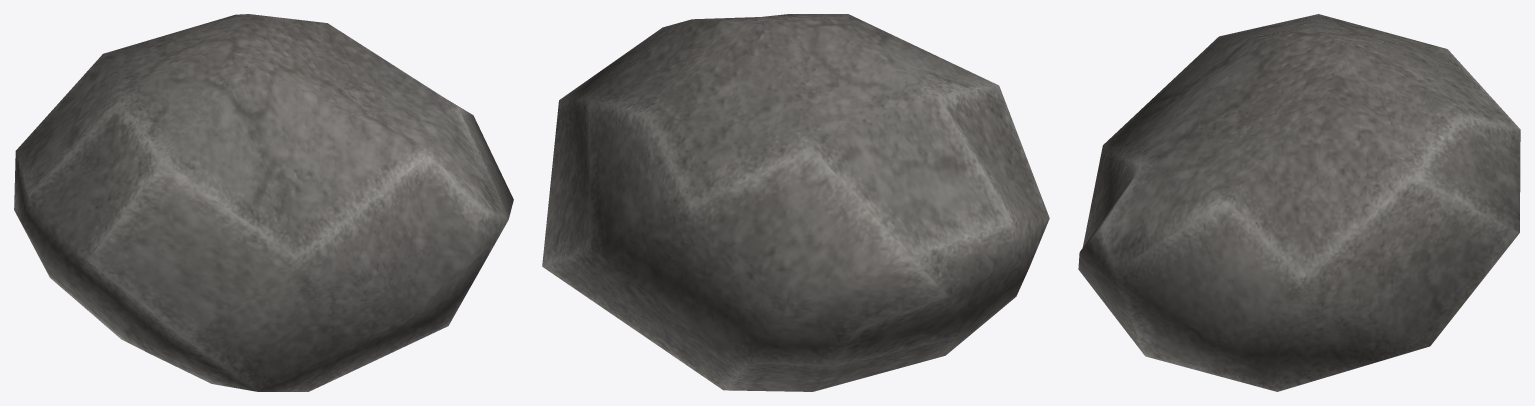
Rendered from Rock_07.fbx.
3 views of the same model, side by side, from view 1: azimuth 30°, elevation 25°; view 2: azimuth 150°, elevation 25°; view 3: azimuth 270°, elevation 25° (orthographic). The views are drawn at different scales.
Parts seen in each view (by area): view 1: Rock_07; view 2: Rock_07; view 3: Rock_07.
Boxes of the visible parts, x1,y1,x2,y2 form: Rock_07: (14, 14, 513, 391); Rock_07: (542, 14, 1049, 391); Rock_07: (1078, 14, 1520, 391).
Size of the model in its own units: 2.02 by 1.43 by 1.78.
Materials: 1 (1 with a texture image).
